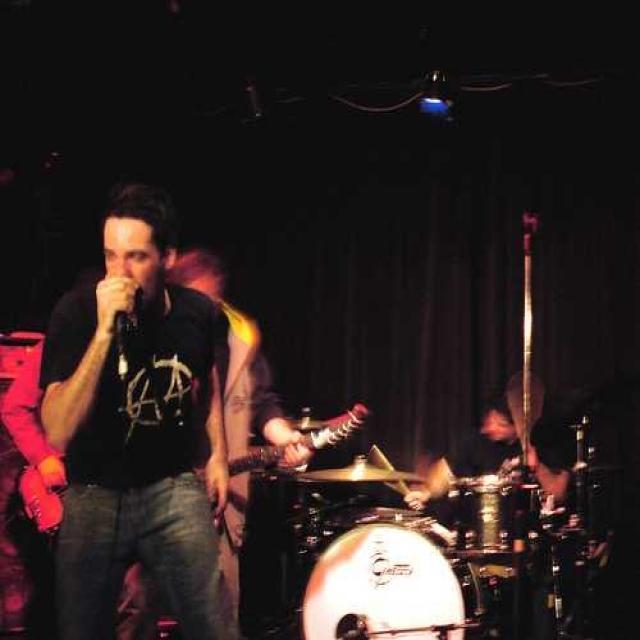microphone: (95, 273, 138, 333)
